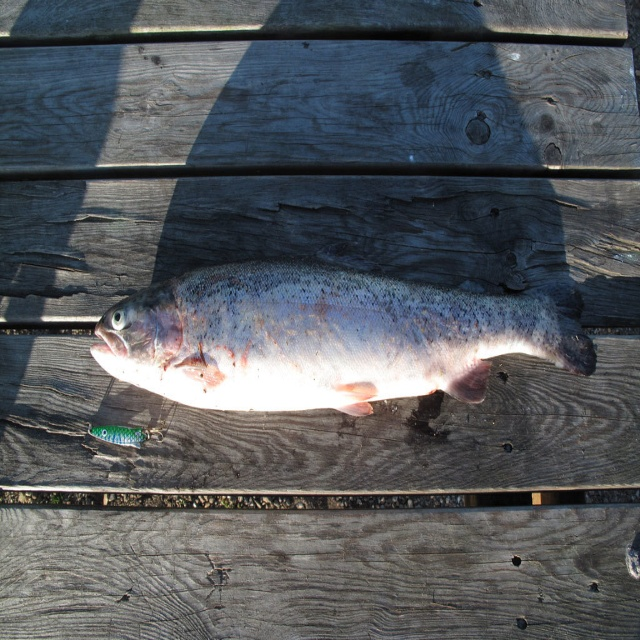Fish: (74, 251, 505, 447)
